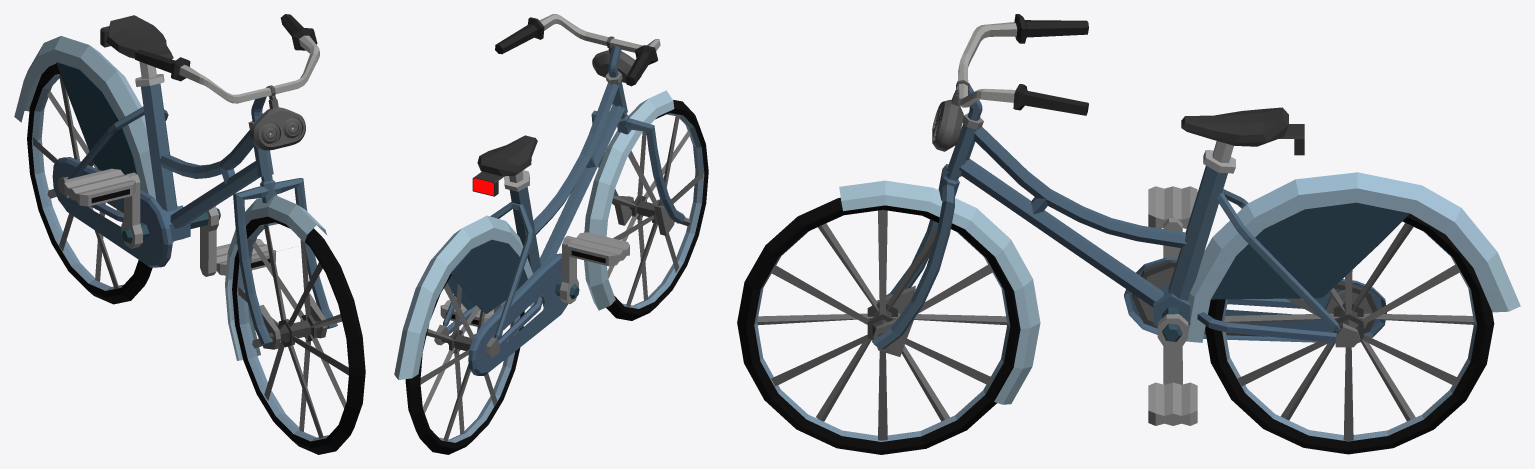
The model's file is bike-only-dutch.glb.
3 renders of one model, left to right at view 1: azimuth 30°, elevation 25°; view 2: azimuth 150°, elevation 25°; view 3: azimuth 270°, elevation 25°, orthographic. The views are drawn at different scales.
Parts seen in each view (by area): view 1: SM_Veh_Bike_02_Combined, Horn; view 2: SM_Veh_Bike_02_Combined, Horn; view 3: SM_Veh_Bike_02_Combined, Horn.
Part boxes in pixels (x1,y1,x2,y2): SM_Veh_Bike_02_Combined: [14, 14, 365, 454]; Horn: [250, 85, 305, 150]; SM_Veh_Bike_02_Combined: [394, 14, 708, 454]; Horn: [592, 36, 641, 82]; SM_Veh_Bike_02_Combined: [737, 14, 1520, 454]; Horn: [932, 80, 969, 151].
Size of the model in its own units: 0.6884 by 1.2 by 2.09.
Materials: 3 (1 with a texture image).
